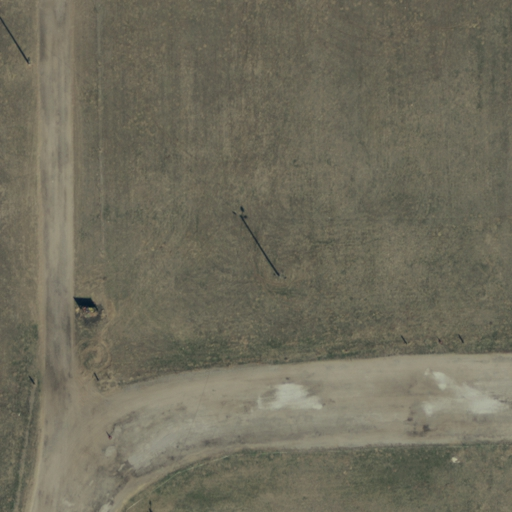DT: (16, 48, 42, 78), (268, 264, 292, 288)
